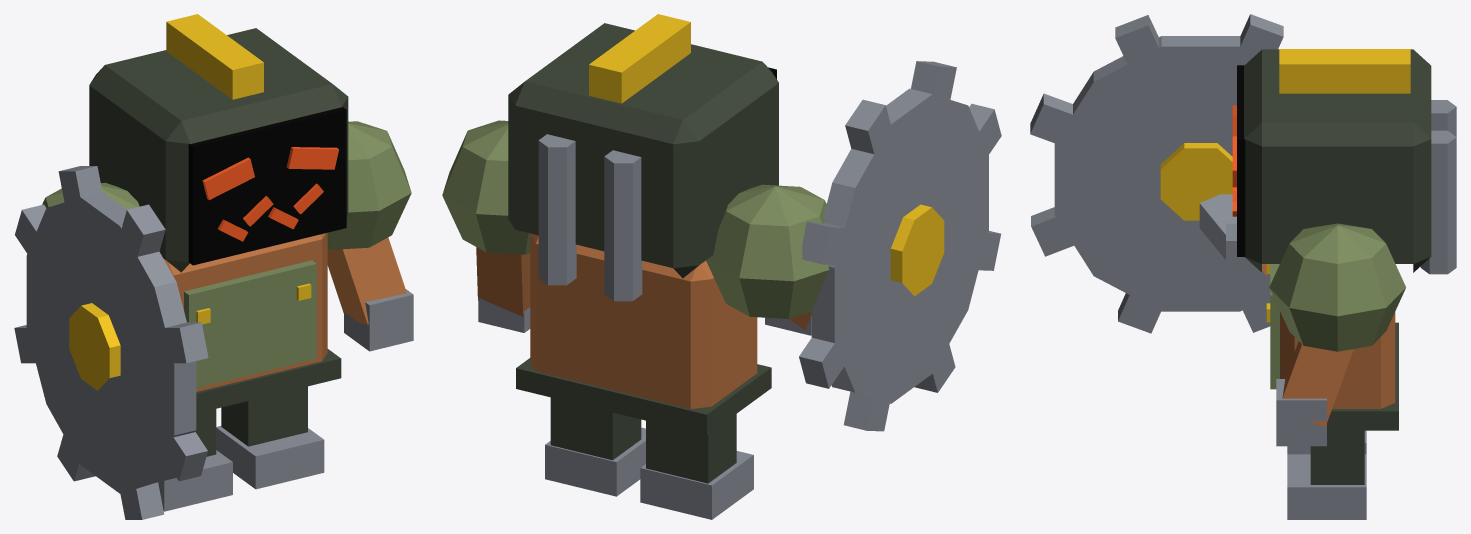
File: warlord_r7.glb
The picture shows the model from 3 angles, left to right: view 1: azimuth 30°, elevation 25°; view 2: azimuth 150°, elevation 25°; view 3: azimuth 270°, elevation 25°; orthographic projection. The views are drawn at different scales.
Parts seen in each view (by area): view 1: warlord_r7_mesh; view 2: warlord_r7_mesh; view 3: warlord_r7_mesh.
Part boxes in pixels (<box>): warlord_r7_mesh: <box>14,14,413,519</box>; warlord_r7_mesh: <box>442,14,1001,519</box>; warlord_r7_mesh: <box>1030,14,1456,519</box>.
Size of the model in its own units: 3.38 by 3.6 by 3.28.
1 material, 1 textured.
